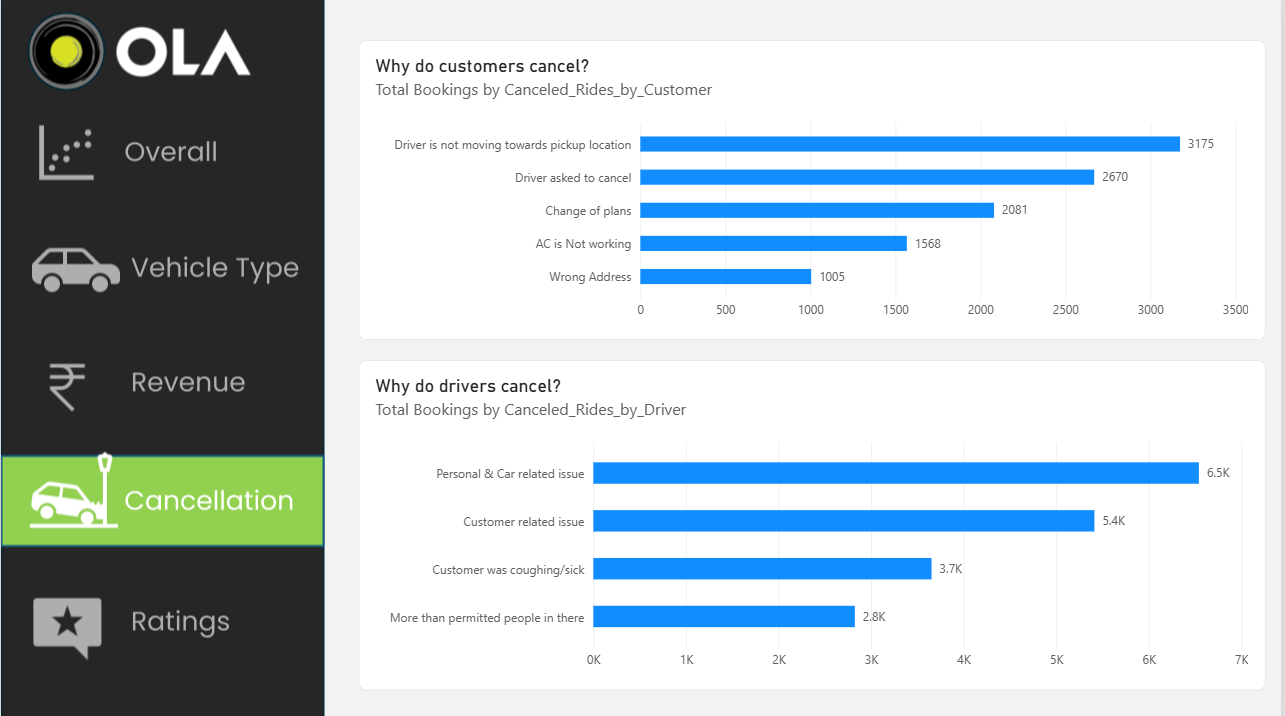

What the dashboard file says about the page in this screenshot:
{"tool":"powerbi","page":{"name":"Cancellation","canvas":[1920,1080],"ordinal":3},"visuals":[{"type":"actionButton","title":"Overall","box":[321.4,291.4,322.9,87.1],"z":0},{"type":"actionButton","title":"Vehicle Type","box":[321.4,378.6,322.9,122.9],"z":1},{"type":"actionButton","title":"Revenue","box":[321.4,501.4,322.9,118.6],"z":2},{"type":"actionButton","title":"Cancellation","box":[321.4,620,322.9,118.6],"z":3},{"type":"actionButton","title":"Ratings","box":[321.4,738.6,322.9,115.7],"z":4}]}

Visuals, with their boxes in screenshot pixels (x1, y1, x2, y2), scaled from the page's 1920x1080 canvas onto the 1285x716 screenshot:
"Overall" actionButton: <region>215, 193, 431, 251</region>
"Vehicle Type" actionButton: <region>215, 251, 431, 332</region>
"Revenue" actionButton: <region>215, 332, 431, 411</region>
"Cancellation" actionButton: <region>215, 411, 431, 490</region>
"Ratings" actionButton: <region>215, 490, 431, 566</region>
